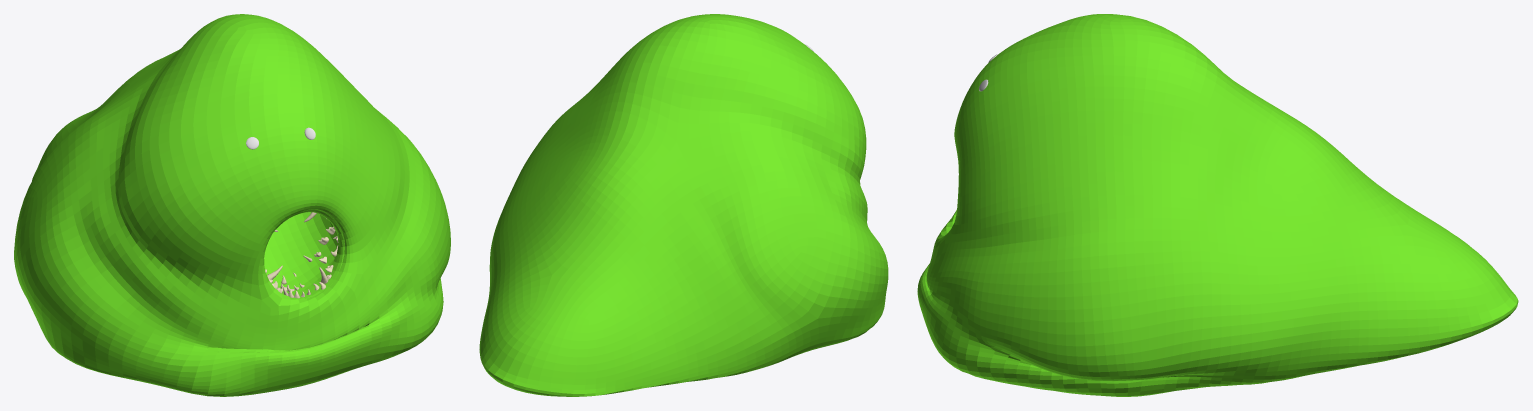
File: SJ_Model_Final_third_phase.fbx
3 renders of one model, left to right at view 1: azimuth 30°, elevation 25°; view 2: azimuth 150°, elevation 25°; view 3: azimuth 270°, elevation 25°, orthographic. The views are drawn at different scales.
Visible parts, largest first — view 1: slime; view 2: slime; view 3: slime.
Part boxes in pixels (x1=…): slime: x1=14, y1=14, x2=450, y2=396; slime: x1=479, y1=14, x2=888, y2=396; slime: x1=917, y1=14, x2=1518, y2=396.
Size of the model in its own units: 42.52 by 31.14 by 55.38.
